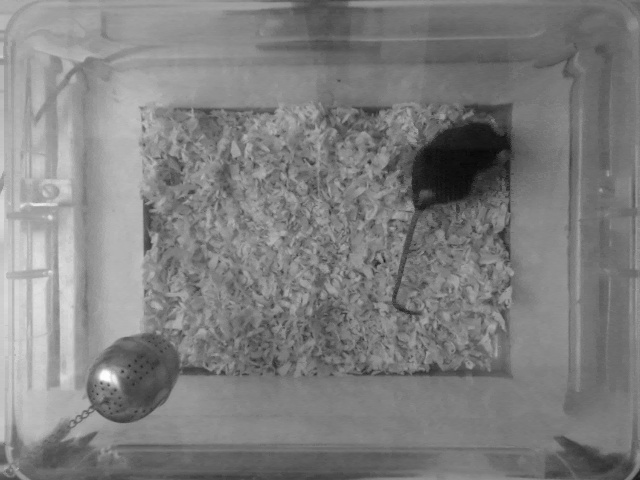mice: (386, 119, 511, 321)
